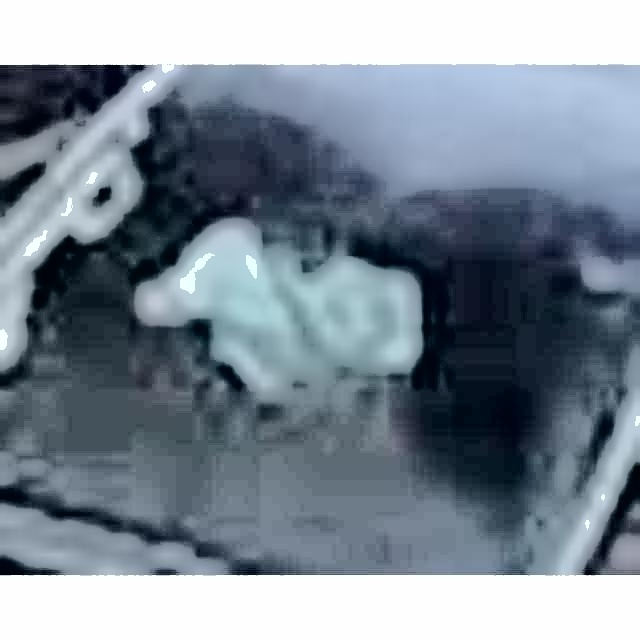pakai: (138, 203, 413, 446)
